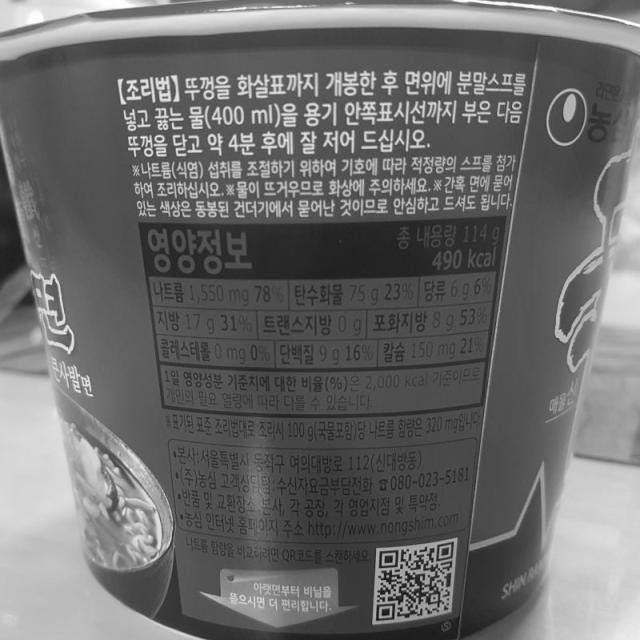Nutrition Label: (132, 209, 515, 426)
